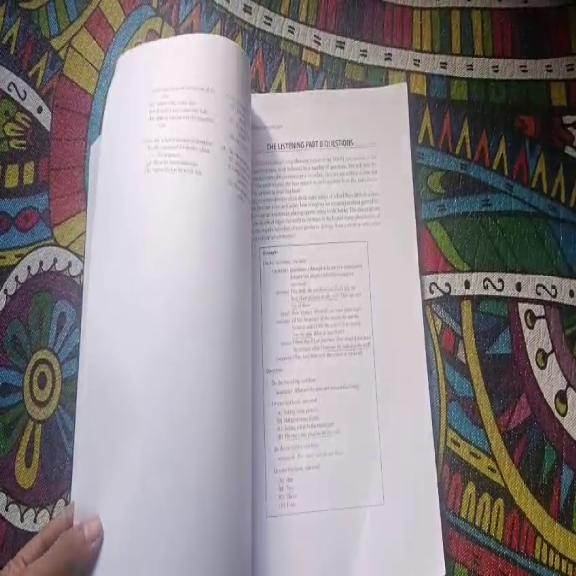Kertas: (72, 35, 251, 575), (252, 85, 444, 575)
